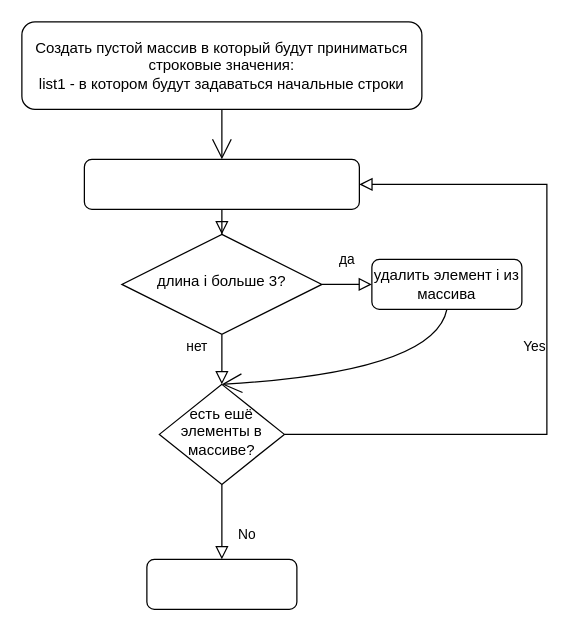
The diagram is 581 pixels wide and 631 high, and some of its shapes have lost their labels. Each missing label, with the centre of its shape:
"вывод на экран массива list1" belongs at point 221,583.
"запуск цикла for, анализирующего длину i-го элемента массива" belongs at point 221,183.
